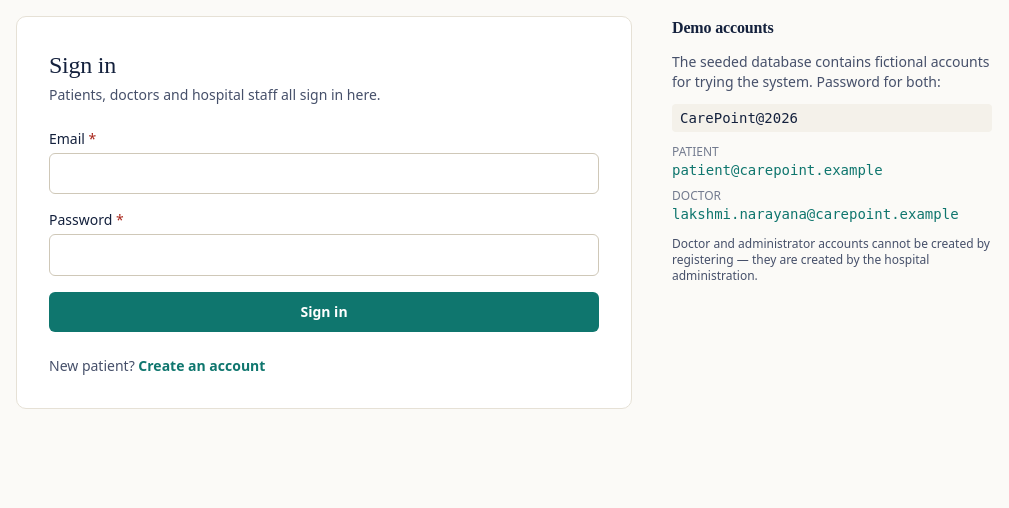
it: Login form › shows the server’s message when sign-in fails
The width and height of the screenshot is (1009, 508).
Type "patient@carepoint.example" into the field labelled "Email *" at (324, 174), box [49,153,599,194]
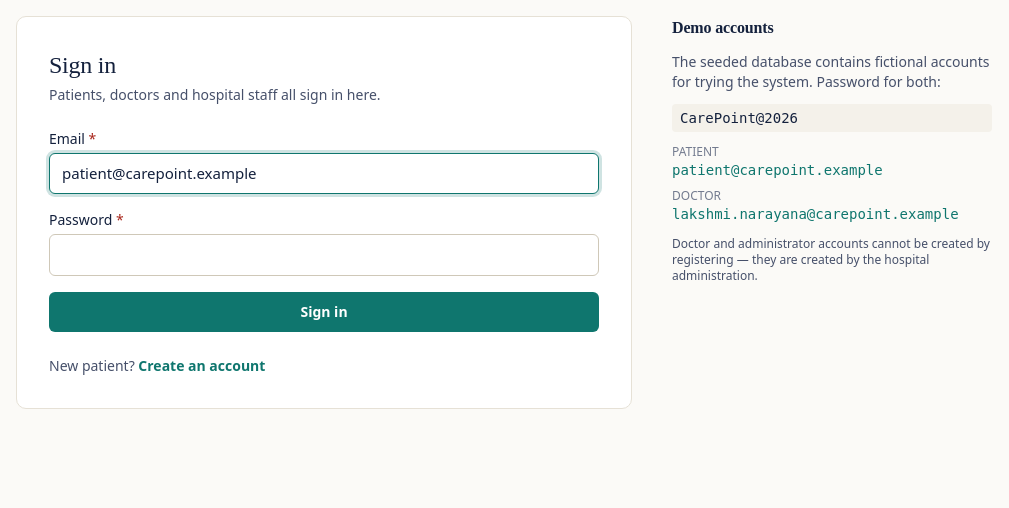
Type "wrong" into the password field labelled "Password *" at (324, 255), box [49,234,599,276]
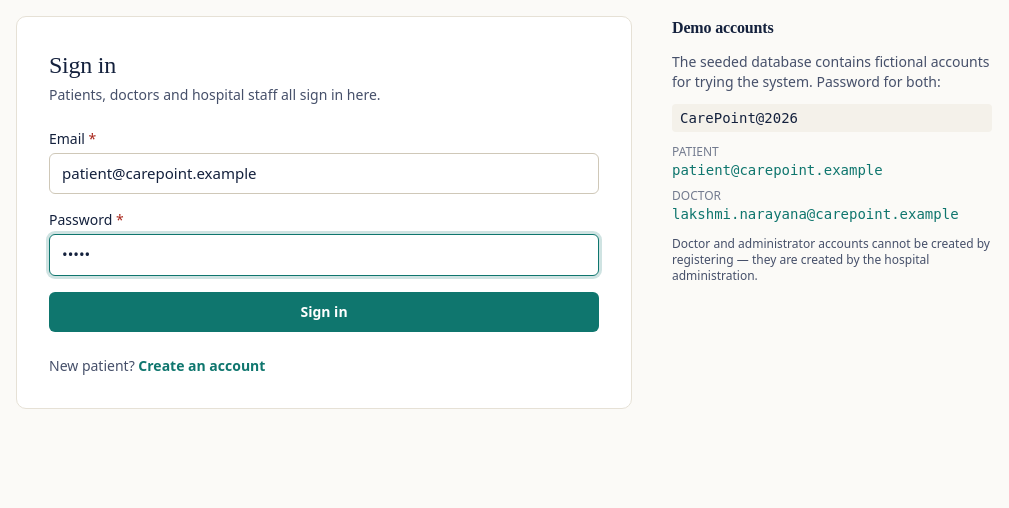
Click the button "Sign in" at (324, 312), box [49,292,599,332]
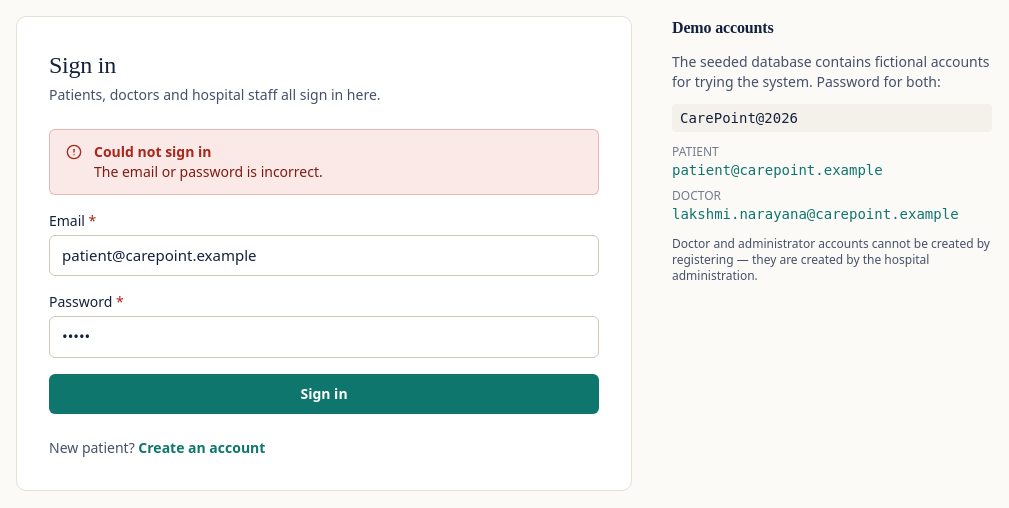
expect the text "The email or password is incorrect." is shown: met, box [94,162,323,181]
